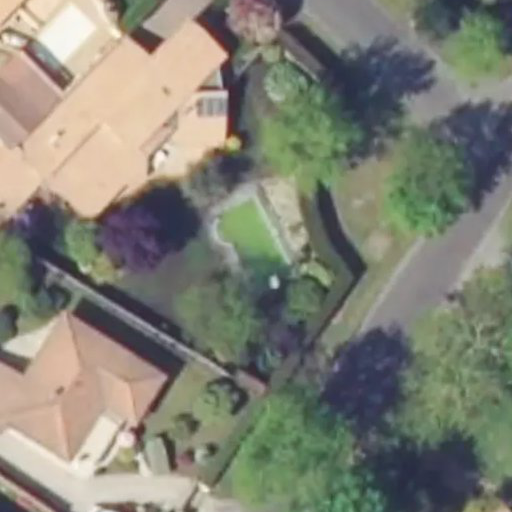pool: (217, 213, 295, 272)
